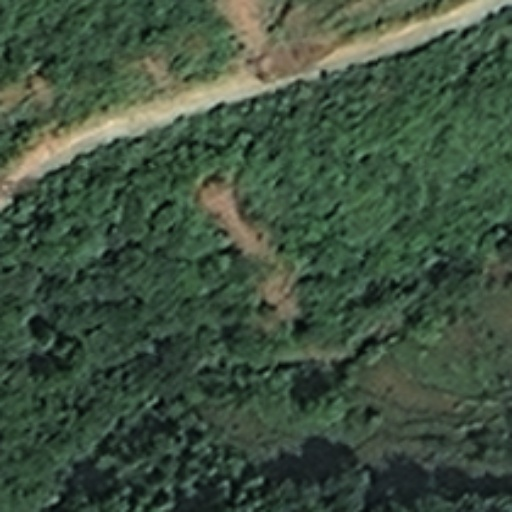landslide: (196, 178, 297, 309)
